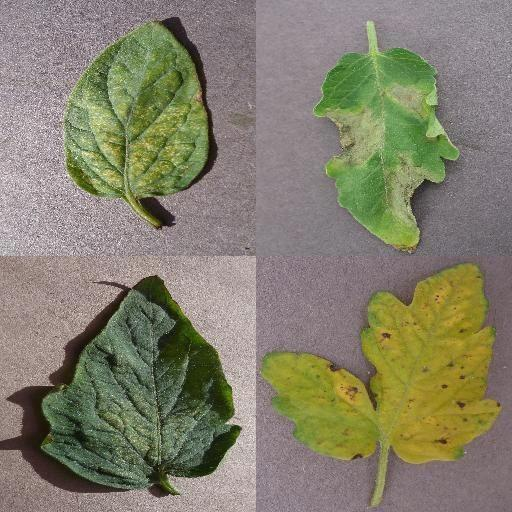Late Blight: (314, 48, 460, 256)
Septoria: (262, 262, 502, 466)
Spider Mites: (39, 274, 243, 492), (62, 20, 210, 198)
